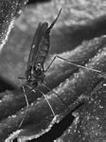Cecidomyiidae: (10, 5, 92, 130)
